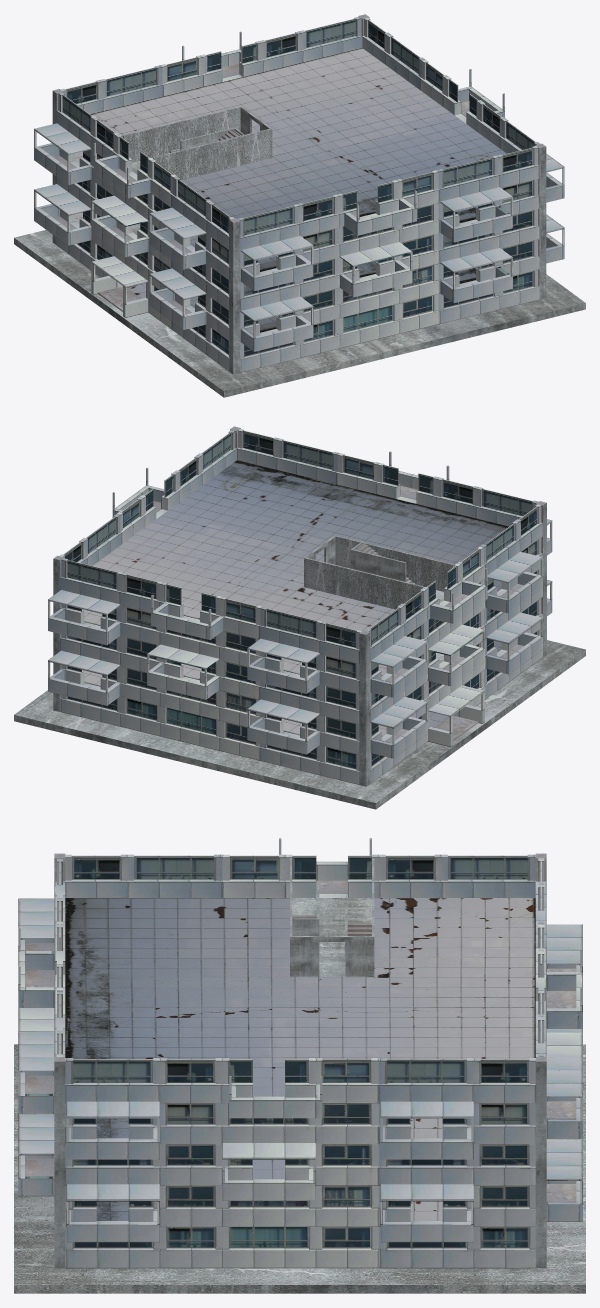
File: BagSS06base_high.fbx
3 renders of one model, top to bottom at view 1: azimuth 30°, elevation 25°; view 2: azimuth 150°, elevation 25°; view 3: azimuth 270°, elevation 25°, orthographic. The views are drawn at different scales.
Parts seen in each view (by area): view 1: basemain700, baseFloors700, baseBase700, baseWalls700, basebeams700, basebalc700, basestairwell700; view 2: basemain700, baseFloors700, baseBase700, baseWalls700, basebeams700, basebalc700, basestairwell700; view 3: basemain700, baseFloors700, baseBase700, baseWalls700, basebeams700, basebalc700, basestairwell700.
Boxes of the visible parts, left/top/right/bottom form: basemain700: left=34, top=16, right=564, bottom=372; baseFloors700: left=75, top=48, right=506, bottom=332; baseBase700: left=14, top=230, right=585, bottom=397; baseWalls700: left=122, top=106, right=272, bottom=234; basebeams700: left=52, top=91, right=546, bottom=374; basebalc700: left=53, top=14, right=545, bottom=314; basestairwell700: left=170, top=127, right=244, bottom=152; basemain700: left=48, top=429, right=552, bottom=784; baseFloors700: left=82, top=460, right=508, bottom=736; baseBase700: left=14, top=640, right=585, bottom=809; baseWalls700: left=304, top=535, right=453, bottom=663; basebeams700: left=53, top=503, right=546, bottom=786; basebalc700: left=54, top=426, right=546, bottom=742; basestairwell700: left=350, top=542, right=406, bottom=581; basemain700: left=18, top=838, right=582, bottom=1268; baseFloors700: left=65, top=898, right=535, bottom=1220; baseBase700: left=14, top=1044, right=585, bottom=1293; baseWalls700: left=290, top=858, right=374, bottom=976; basebeams700: left=54, top=1061, right=546, bottom=1268; basebalc700: left=25, top=853, right=576, bottom=1201; basestairwell700: left=292, top=883, right=347, bottom=958.
Bounding box in the file's own units: 46.45 × 19.39 × 46.65.
